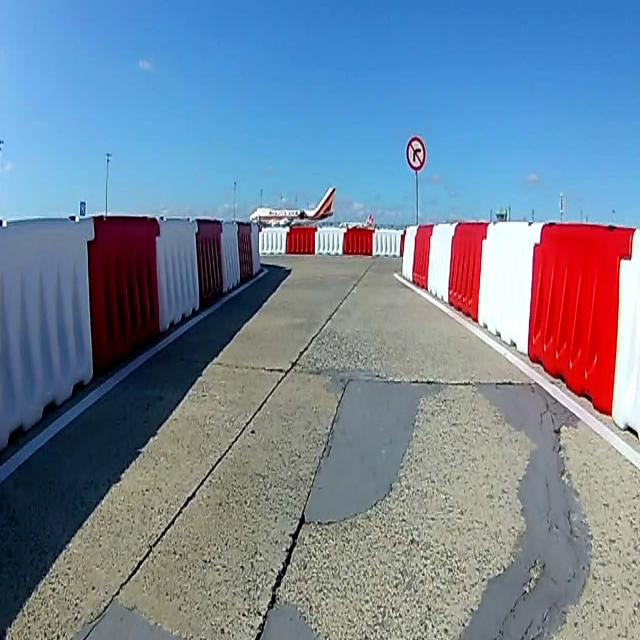sagadonulmez: (406, 136, 426, 172)
